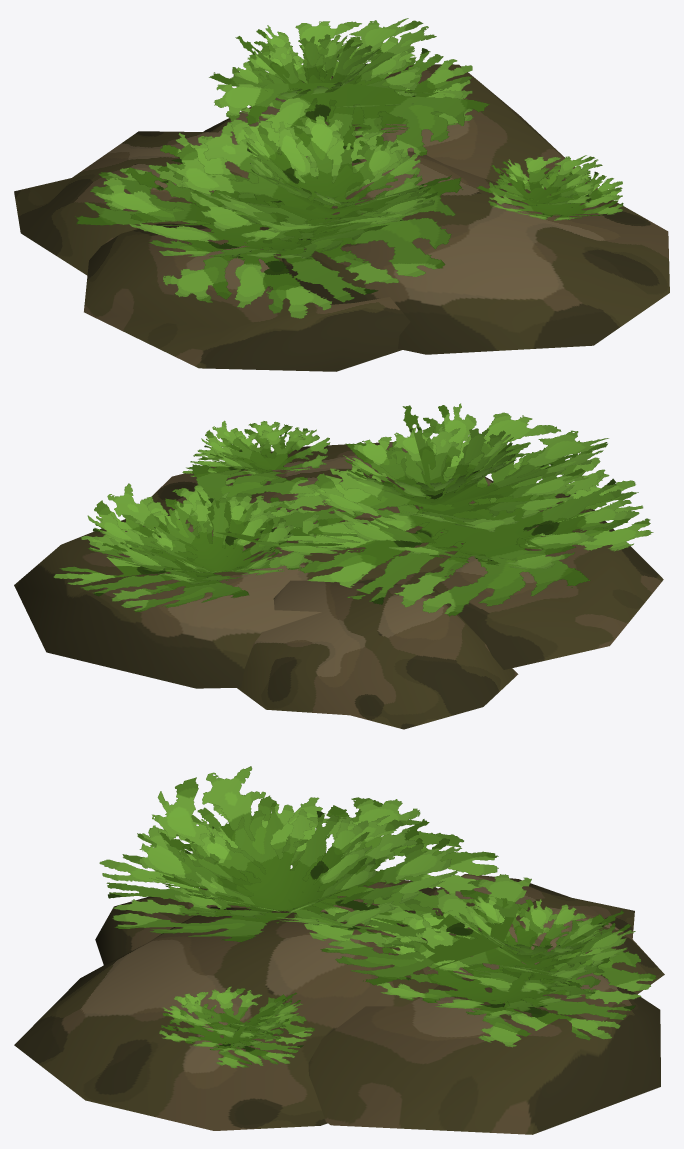
File: Elkhorn Cora 4_preview_3DS_simplified.glb
3 views of the same model, one above another, from view 1: azimuth 30°, elevation 25°; view 2: azimuth 150°, elevation 25°; view 3: azimuth 270°, elevation 25° (orthographic). The views are drawn at different scales.
Visible parts, largest first — view 1: Marine Park Empire model; view 2: Marine Park Empire model; view 3: Marine Park Empire model.
Part boxes in pixels (left/top/right/bottom): Marine Park Empire model: left=14, top=18, right=669, bottom=371; Marine Park Empire model: left=14, top=403, right=663, bottom=729; Marine Park Empire model: left=14, top=766, right=664, bottom=1134.
Bounding box in the file's own units: 132 × 36.02 × 135.
Materials: 2 (2 with a texture image).
